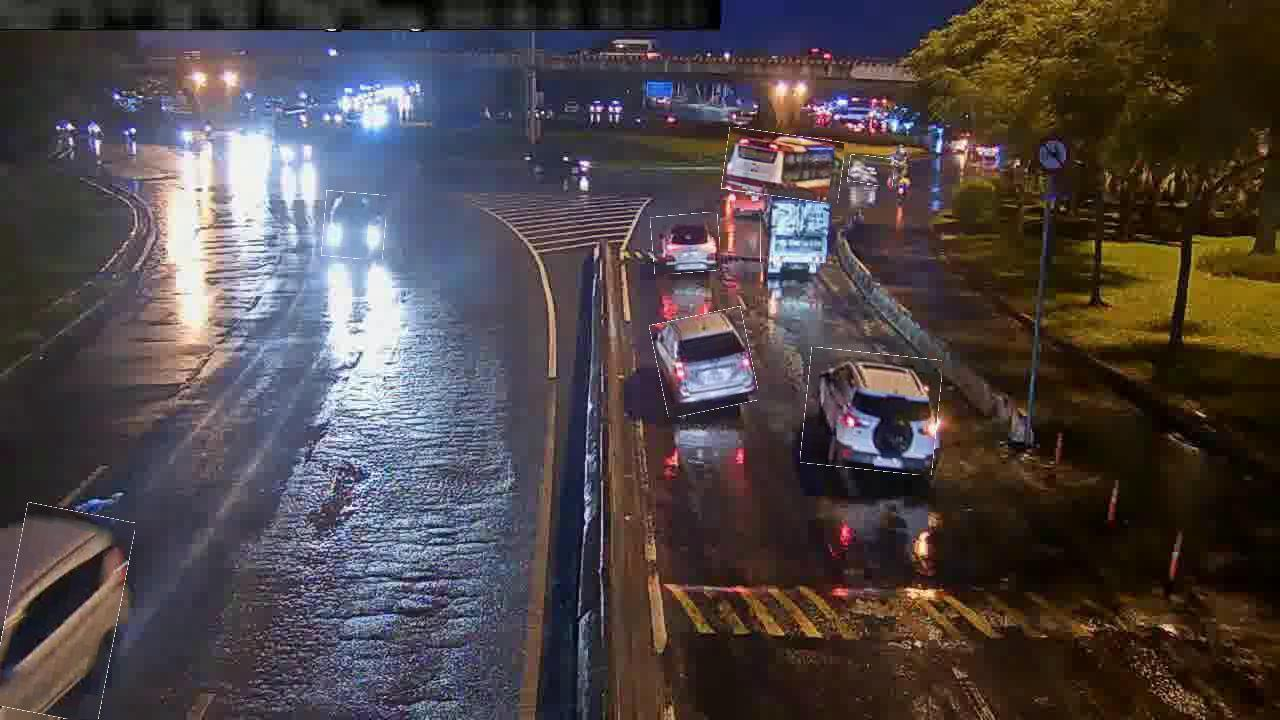14: (723, 131, 844, 201)
8: (761, 189, 827, 279)
container: (0, 506, 127, 719), (803, 351, 941, 473), (654, 311, 755, 414), (323, 192, 386, 259), (651, 214, 720, 274), (848, 156, 895, 186)
